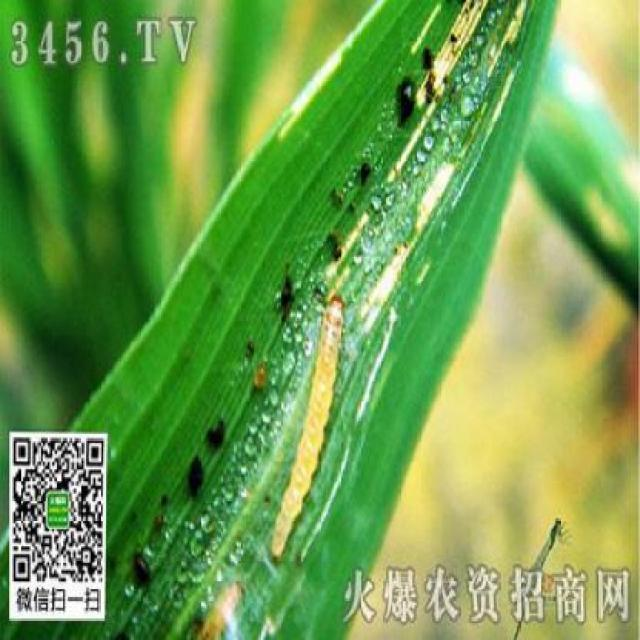leaf-folder: (269, 280, 345, 565)
